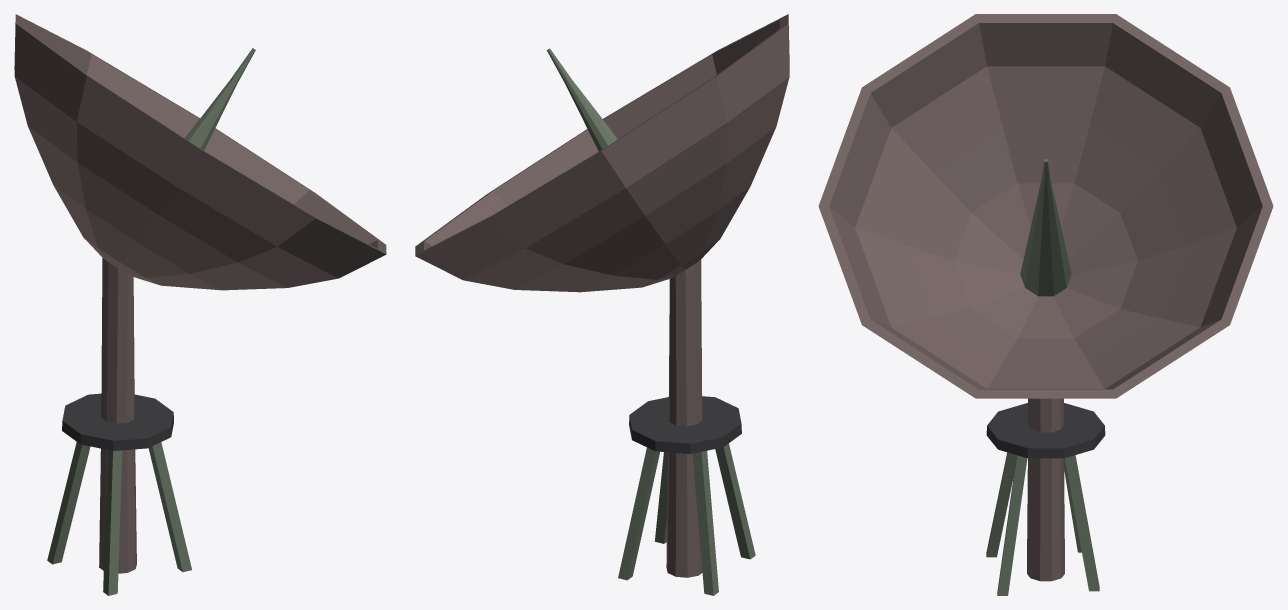
The model's file is Satelite.fbx.
3 renders of one model, left to right at view 1: azimuth 30°, elevation 25°; view 2: azimuth 150°, elevation 25°; view 3: azimuth 270°, elevation 25°, orthographic.
Visible parts, largest first — view 1: Satelite; view 2: Satelite; view 3: Satelite.
Part boxes in pixels (left/top/right/bottom): Satelite: left=14, top=14, right=386, bottom=595; Satelite: left=415, top=14, right=789, bottom=595; Satelite: left=818, top=14, right=1273, bottom=595.
Size of the model in its own units: 841 by 1402 by 1097.
